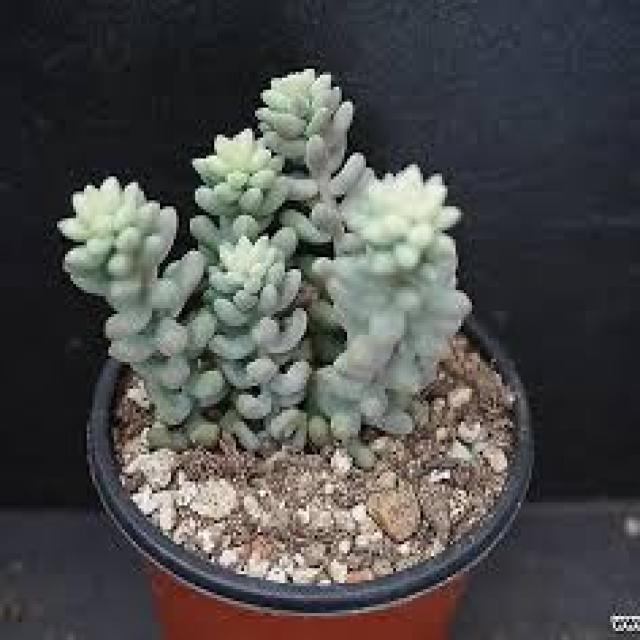Sedum: (312, 165, 471, 439), (58, 183, 205, 424), (185, 227, 311, 451), (256, 74, 365, 235), (192, 130, 286, 240)
